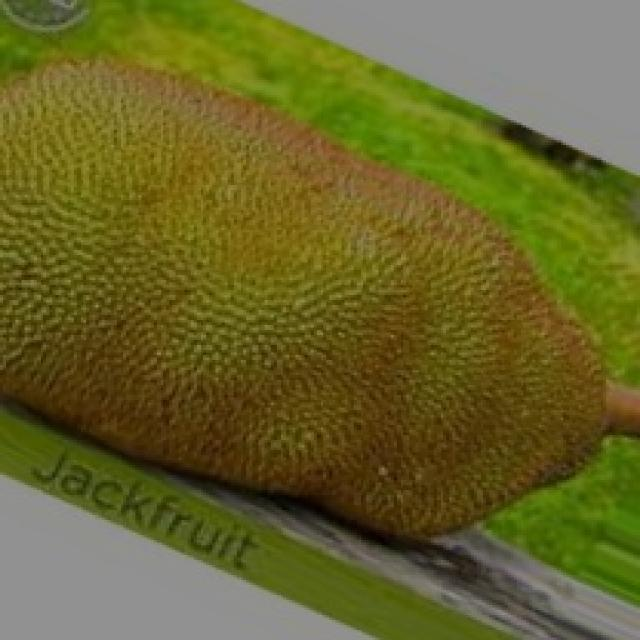Fruit: (0, 5, 406, 485)
